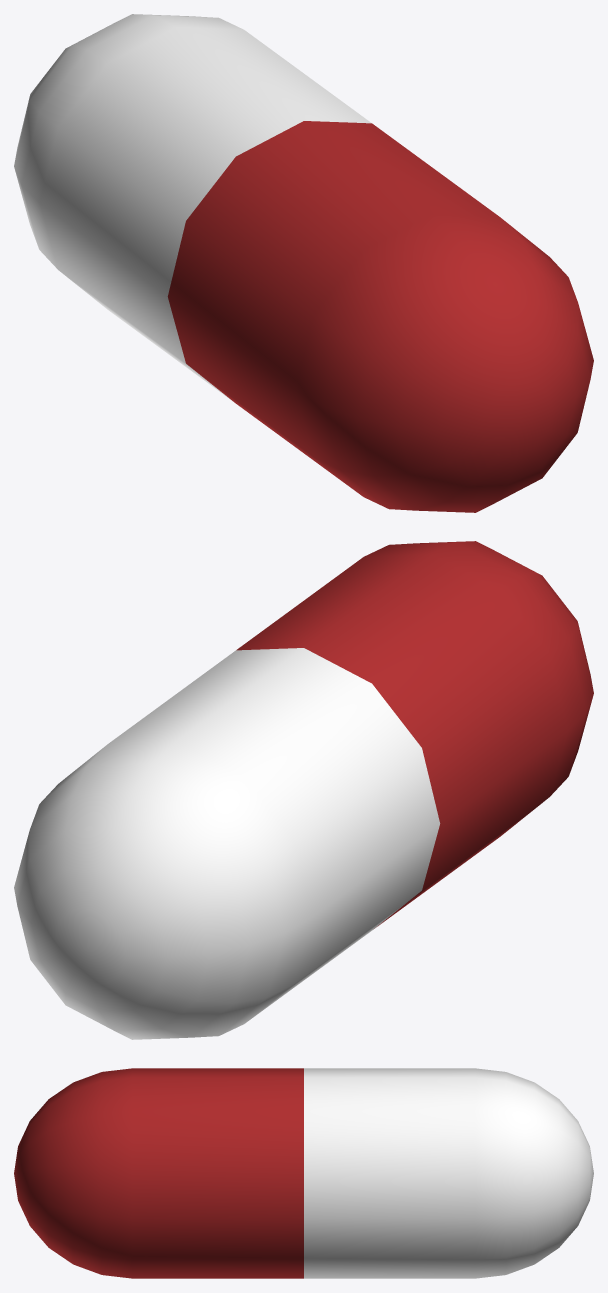
The model's file is Pill.fbx.
3 views of the same model, one above another, from view 1: azimuth 30°, elevation 25°; view 2: azimuth 150°, elevation 25°; view 3: azimuth 270°, elevation 25° (orthographic). The views are drawn at different scales.
Parts seen in each view (by area): view 1: Pill; view 2: Pill; view 3: Pill.
Part boxes in pixels (box(x1,y1,x2,y2)): Pill: box(14, 14, 593, 512); Pill: box(14, 541, 593, 1039); Pill: box(14, 1068, 593, 1278).
Size of the model in its own units: 15.52 by 15.52 by 42.66.
1 material, 1 textured.
